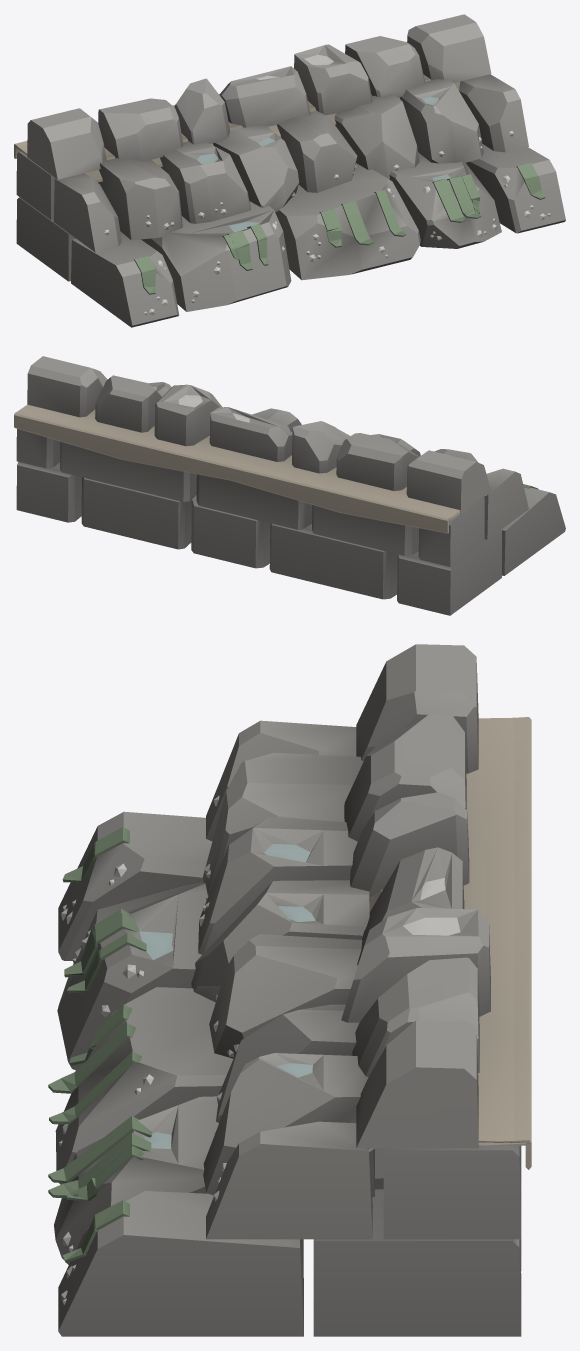
Rendered from revet.glb.
3 renders of one model, top to bottom at view 1: azimuth 30°, elevation 25°; view 2: azimuth 150°, elevation 25°; view 3: azimuth 270°, elevation 25°, orthographic. The views are drawn at different scales.
Parts seen in each view (by area): view 1: revet; view 2: revet; view 3: revet.
Part boxes in pixels (x1,y1,x2,y2): revet: (14, 14, 565, 327); revet: (14, 356, 565, 615); revet: (48, 644, 531, 1336).
Bounding box in the file's own units: 4 × 1.19 × 1.93.
